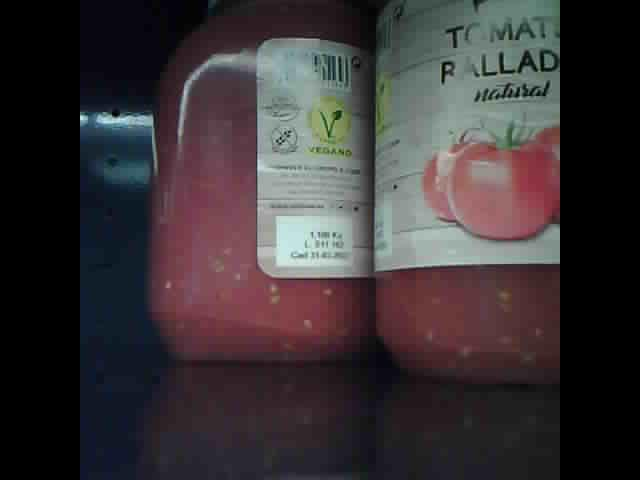tomate: (148, 4, 374, 365), (379, 1, 561, 381)
